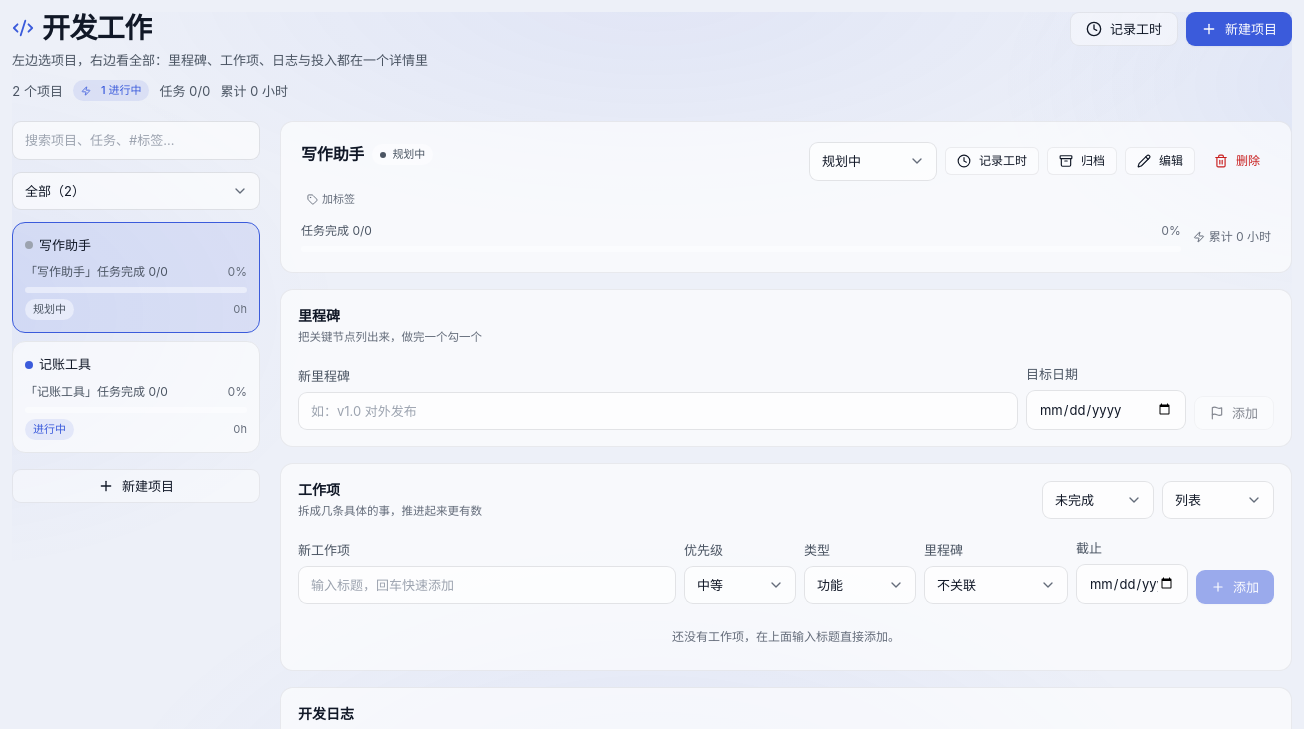
Scenario: DevPage 布局与项目 › 筛选把当前选中项滤掉后，详情落到第一个可见项目
先选中「记账工具」，再用状态筛选把它单独留下
Click the button "记账工具 「记账工具」任务完成 0/0 0% 进行中 0h": [136, 397] box [12, 341, 260, 453]
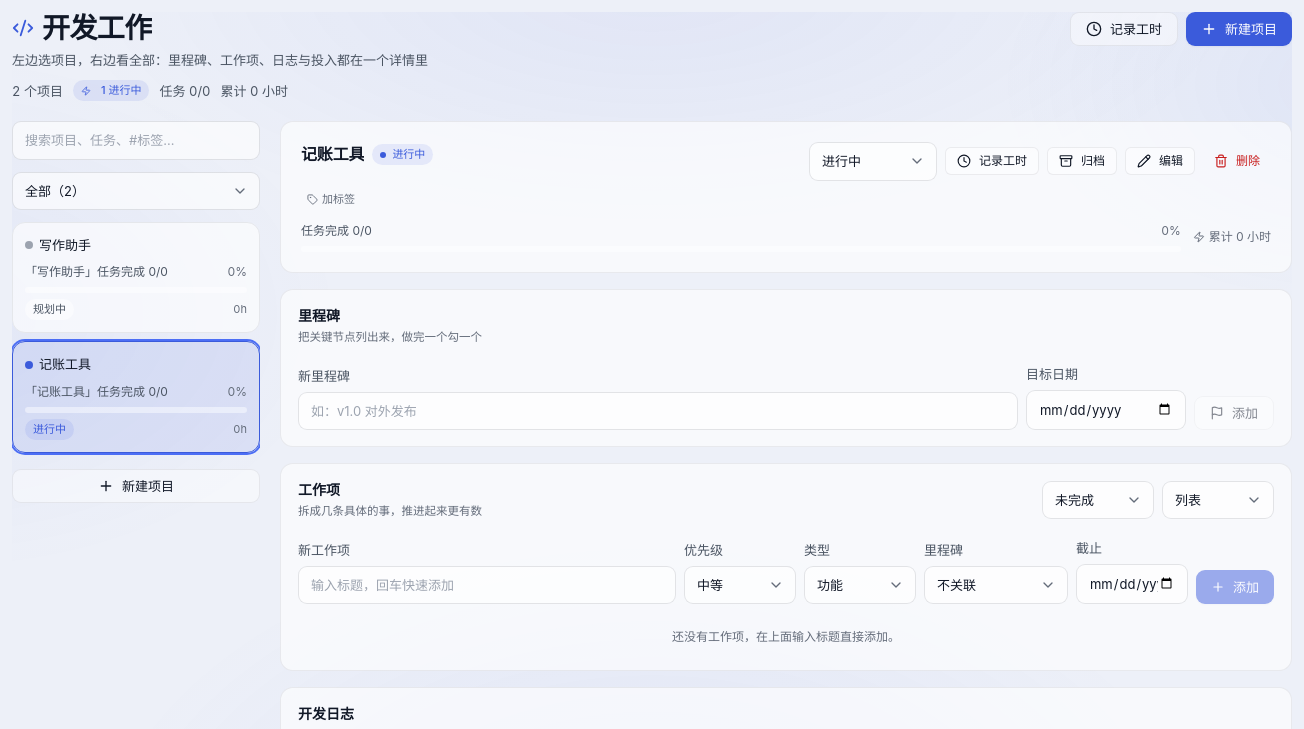
Select "进行中（1）" in the dropdown named "按项目状态筛选": [136, 191] box [12, 172, 260, 210]
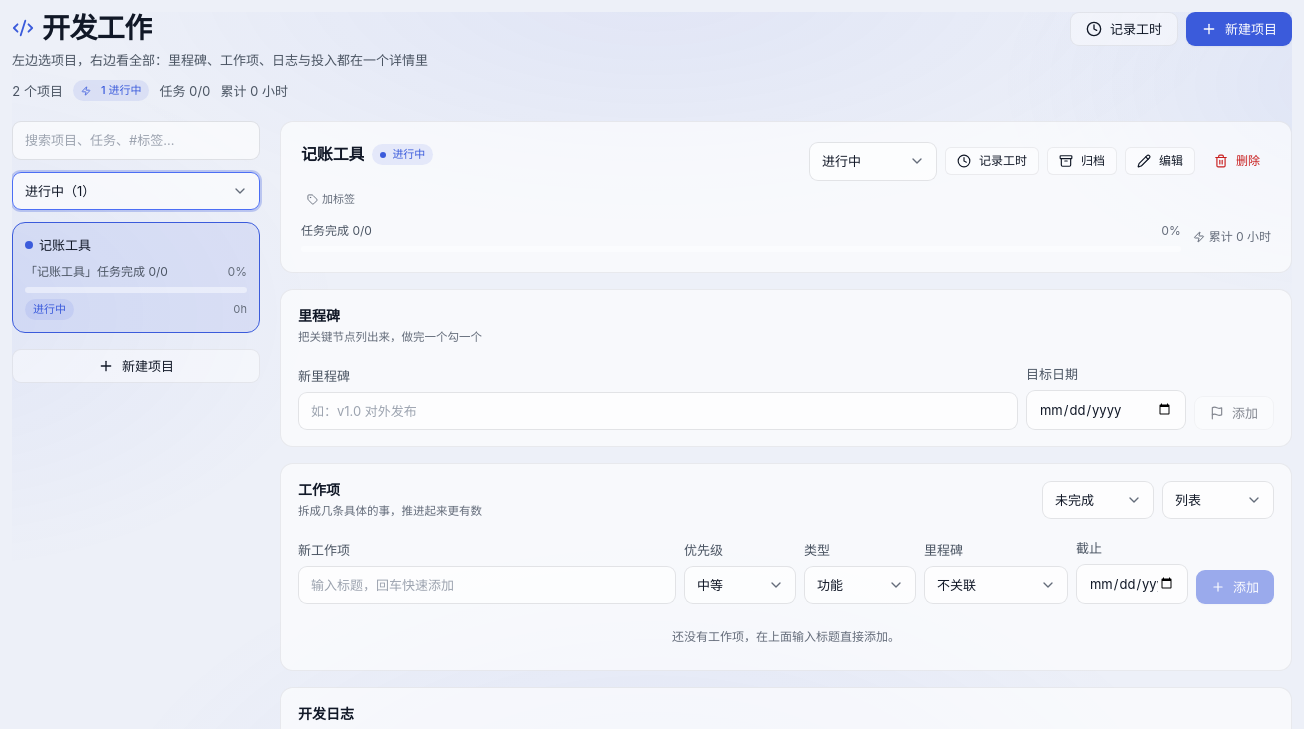
Expected: the heading "记账工具" is shown, [301, 142, 364, 167]
Expected: the button "写作助手" is gone
